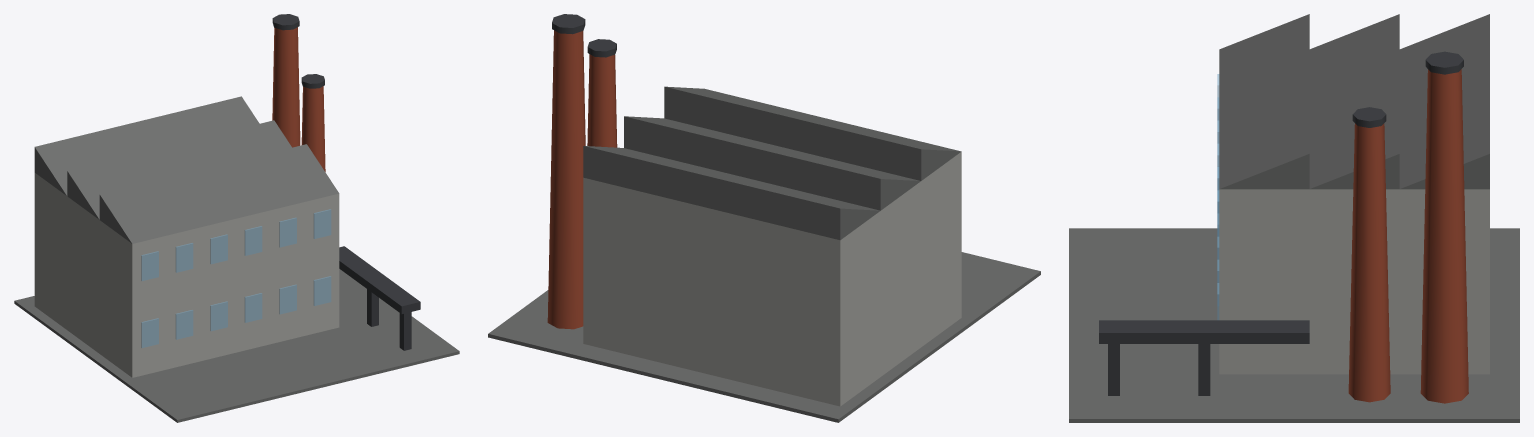
The model's file is bld_special_factory_a06_lod1.glb.
3 views of the same model, side by side, from view 1: azimuth 30°, elevation 25°; view 2: azimuth 150°, elevation 25°; view 3: azimuth 270°, elevation 25° (orthographic). The views are drawn at different scales.
Parts seen in each view (by area): view 1: body; view 2: body; view 3: body.
Boxes of the visible parts, box(x1,y1,x2,y2) form: body: box(14, 14, 459, 422); body: box(488, 14, 1040, 422); body: box(1069, 14, 1519, 422).
Bounding box in the file's own units: 15 × 12.4 × 15.
